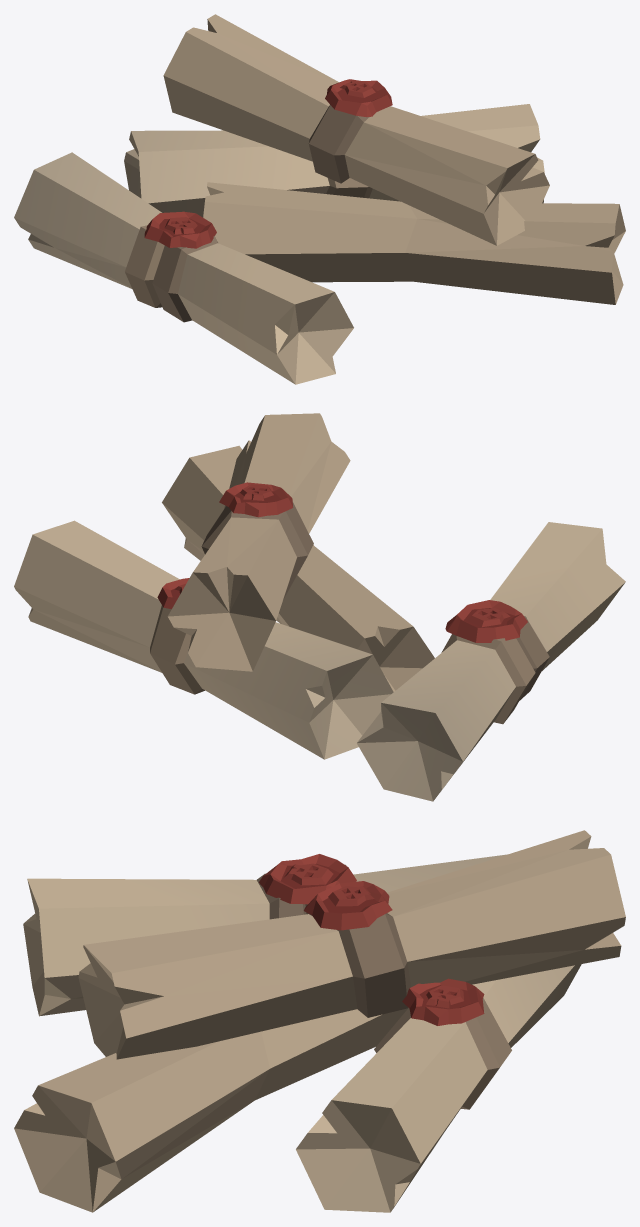
File: SM_Prop_Scroll_Pile_02.fbx
3 views of the same model, one above another, from view 1: azimuth 30°, elevation 25°; view 2: azimuth 150°, elevation 25°; view 3: azimuth 270°, elevation 25° (orthographic). The views are drawn at different scales.
Visible parts, largest first — view 1: SM_Prop_Scroll_Pile_02; view 2: SM_Prop_Scroll_Pile_02; view 3: SM_Prop_Scroll_Pile_02.
Boxes of the visible parts, bbox=[...] form: SM_Prop_Scroll_Pile_02: bbox=[14, 14, 625, 384]; SM_Prop_Scroll_Pile_02: bbox=[14, 413, 625, 801]; SM_Prop_Scroll_Pile_02: bbox=[14, 830, 625, 1212].
Bounding box in the file's own units: 67.36 × 24.57 × 60.11.
